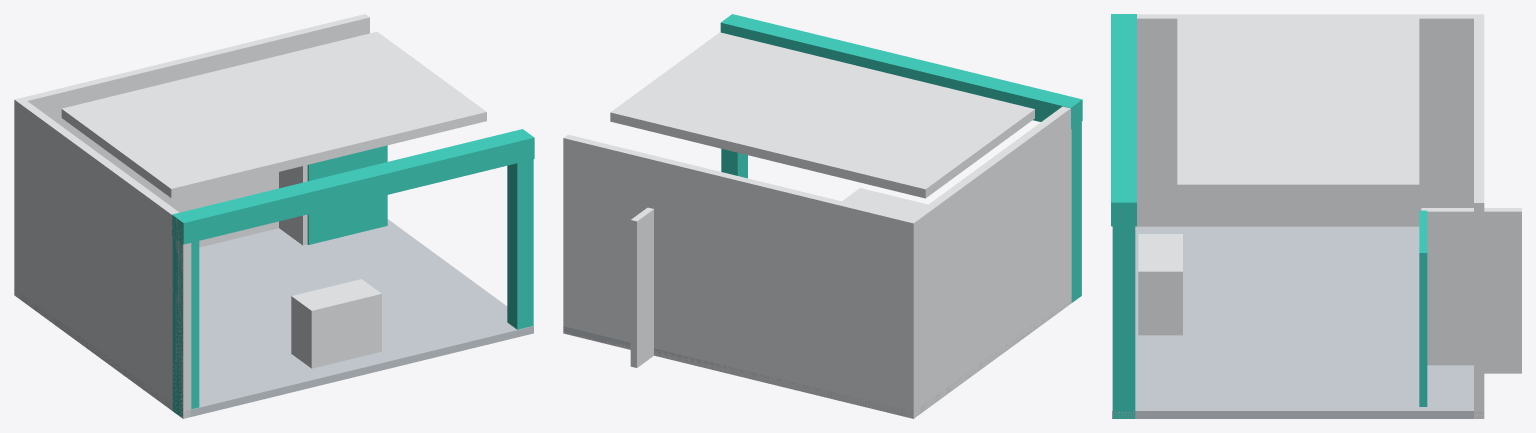
3 views of the same model, side by side, from view 1: azimuth 30°, elevation 25°; view 2: azimuth 150°, elevation 25°; view 3: azimuth 270°, elevation 25° (orthographic). The views are drawn at different scales.
Visible parts, largest first — view 1: Exhibition Booth Concept; view 2: Exhibition Booth Concept; view 3: Exhibition Booth Concept.
Part boxes in pixels (x1=…): Exhibition Booth Concept: x1=14, y1=14, x2=534, y2=418; Exhibition Booth Concept: x1=563, y1=14, x2=1082, y2=418; Exhibition Booth Concept: x1=1111, y1=14, x2=1521, y2=418.
Size of the model in its own units: 6 by 3.34 by 5.52.
